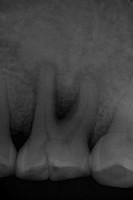Dental Caries: (22, 58, 79, 122), (72, 64, 110, 106)
